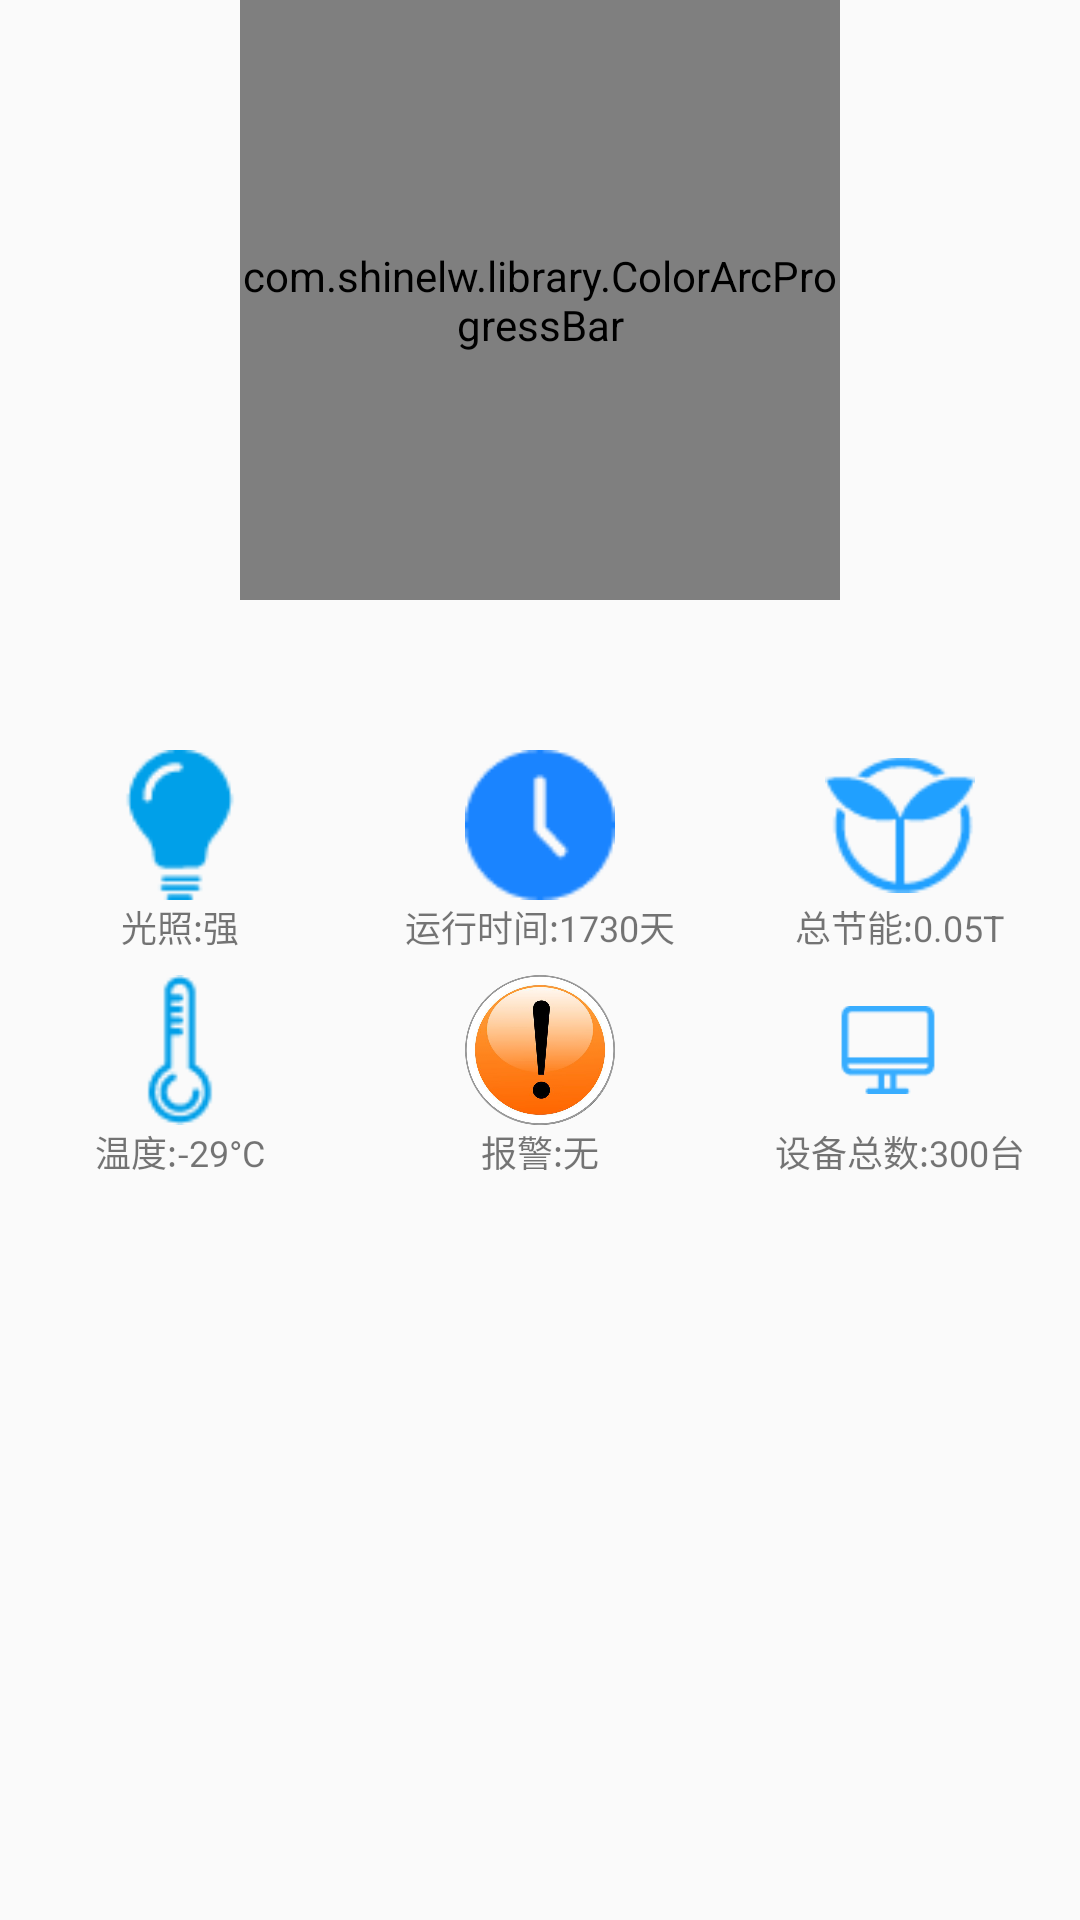

Locate icon controls on the screen. Image size 1080px x 1920px, boxes as Rect(x1, y1, x2, y2).
clock: Rect(465, 750, 615, 900)
leaf: Rect(825, 758, 975, 893)
weatherglass: Rect(147, 975, 212, 1125)
